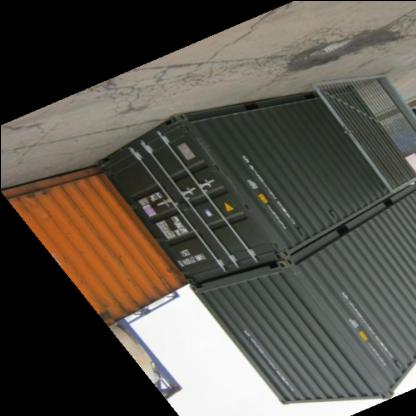Damage: (199, 134, 237, 198), (268, 146, 290, 186)
